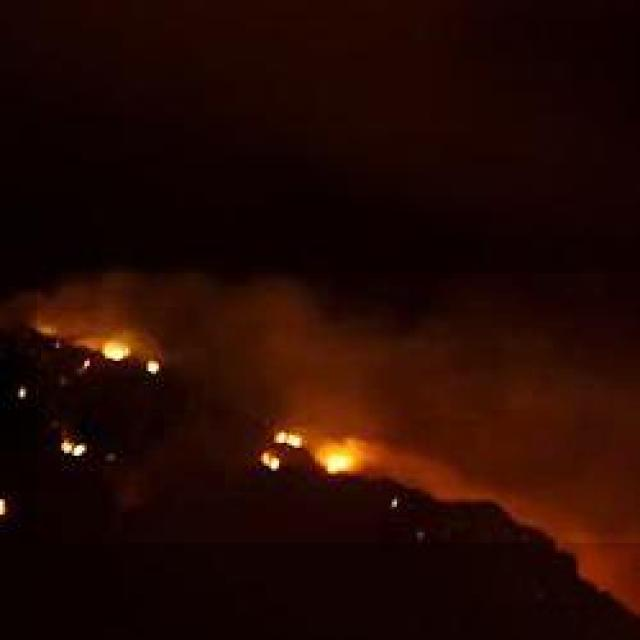Fire: (323, 439, 370, 484), (94, 333, 132, 371), (268, 424, 312, 444), (60, 433, 90, 454), (259, 450, 284, 468)
Smoke: (37, 273, 640, 543)
